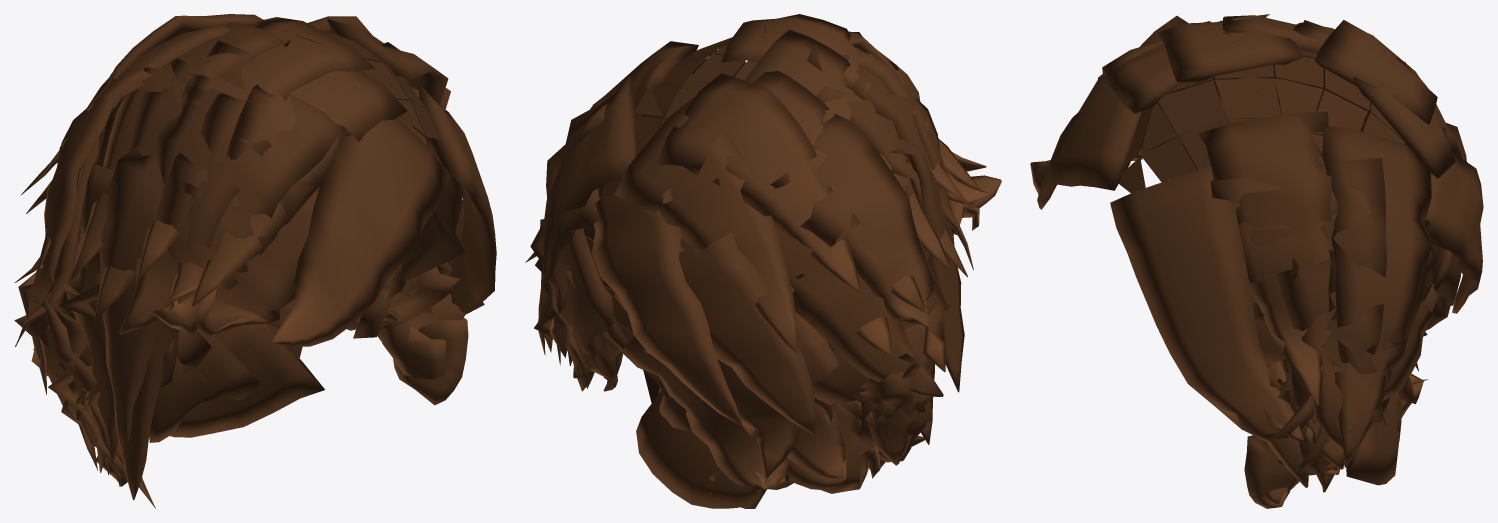
The model's file is kopf.haar.seitenbob.glb.
The picture shows the model from 3 angles, left to right: view 1: azimuth 30°, elevation 25°; view 2: azimuth 150°, elevation 25°; view 3: azimuth 270°, elevation 25°; orthographic projection. The views are drawn at different scales.
Visible parts, largest first — view 1: haar; view 2: haar; view 3: haar.
Boxes of the visible parts, x1,y1,x2,y2 form: haar: (14, 14, 496, 508); haar: (525, 14, 1001, 508); haar: (1030, 14, 1483, 508).
Bounding box in the file's own units: 0.2535 × 0.2418 × 0.2267.
